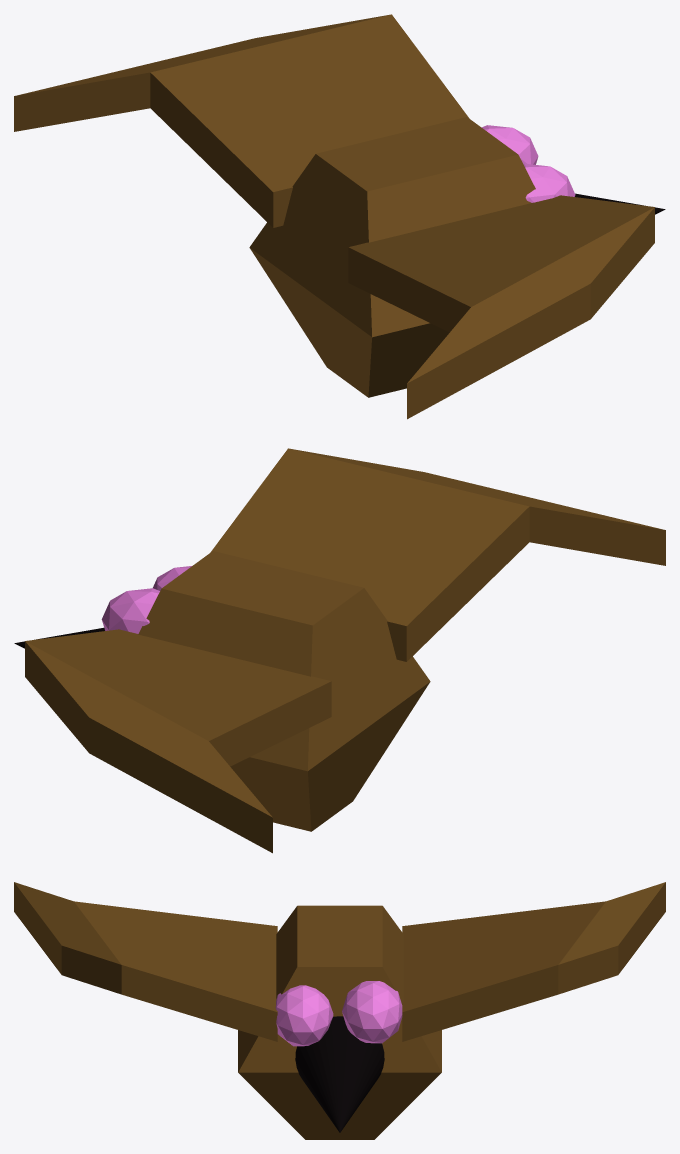
The model's file is Flyer.fbx.
3 views of the same model, one above another, from view 1: azimuth 30°, elevation 25°; view 2: azimuth 150°, elevation 25°; view 3: azimuth 270°, elevation 25° (orthographic). The views are drawn at different scales.
Parts seen in each view (by area): view 1: Wing L, Body, Wing R, Eye R, Eye L; view 2: Wing R, Body, Wing L, Eye L; view 3: Wing L, Wing R, Body, Beak, Eye L, Eye R.
Part boxes in pixels (x1,y1,x2,y2): Wing L: (14, 14, 469, 227); Body: (249, 117, 535, 397); Wing R: (348, 195, 654, 419); Eye R: (523, 163, 575, 202); Eye L: (481, 125, 538, 164); Wing R: (210, 448, 665, 661); Body: (138, 551, 430, 831); Wing L: (25, 629, 331, 853); Eye L: (101, 588, 159, 633); Wing L: (402, 882, 665, 1041); Wing R: (14, 882, 277, 1041); Body: (238, 905, 441, 1139); Beak: (295, 1016, 384, 1132); Eye L: (342, 981, 402, 1043); Eye R: (275, 985, 333, 1046).
Bounding box in the file's own units: 428 × 206 × 640.
